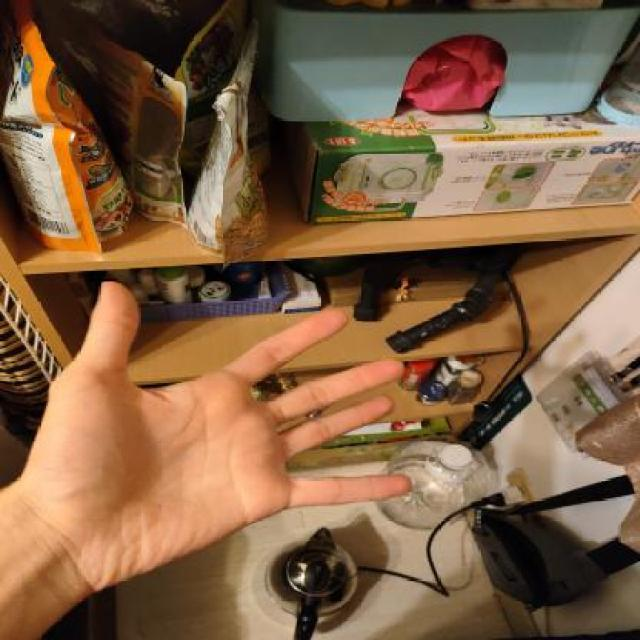bare_hand: (9, 271, 414, 640)
